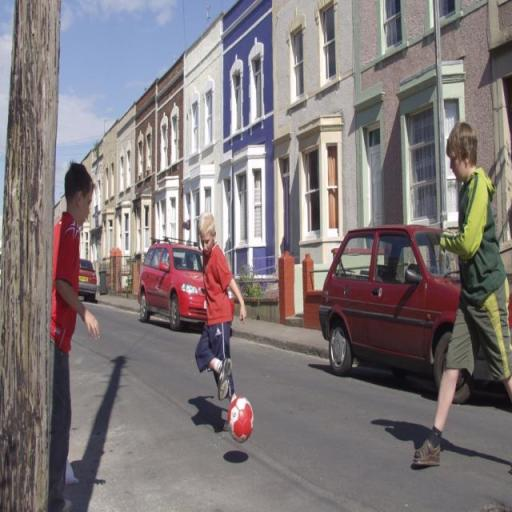person: (410, 122, 512, 471), (48, 160, 101, 512), (196, 208, 249, 437)
